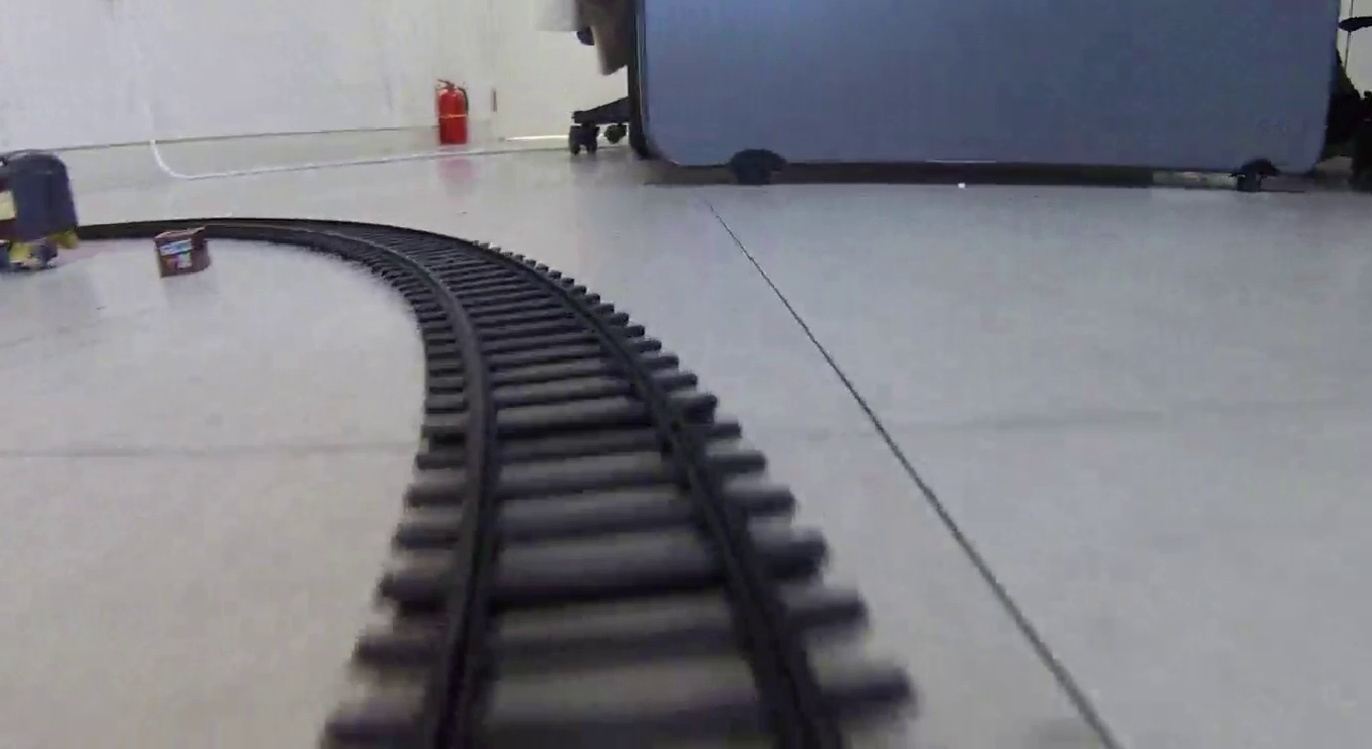box: (153, 226, 214, 280)
